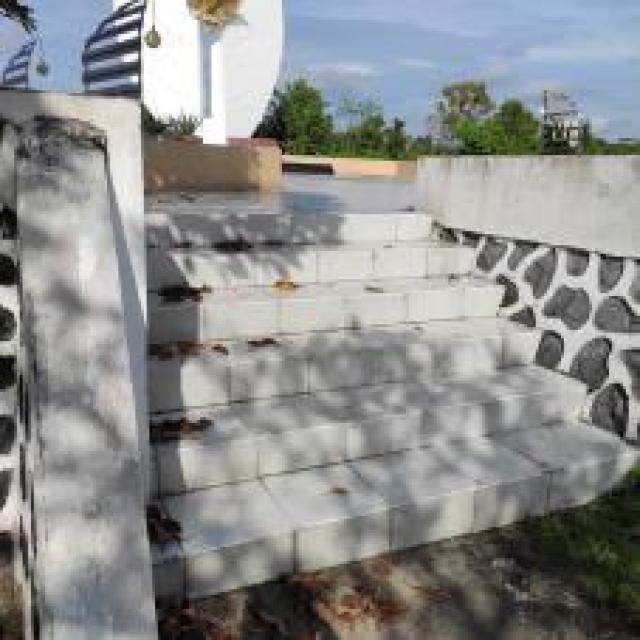upstair: (137, 199, 639, 605)
